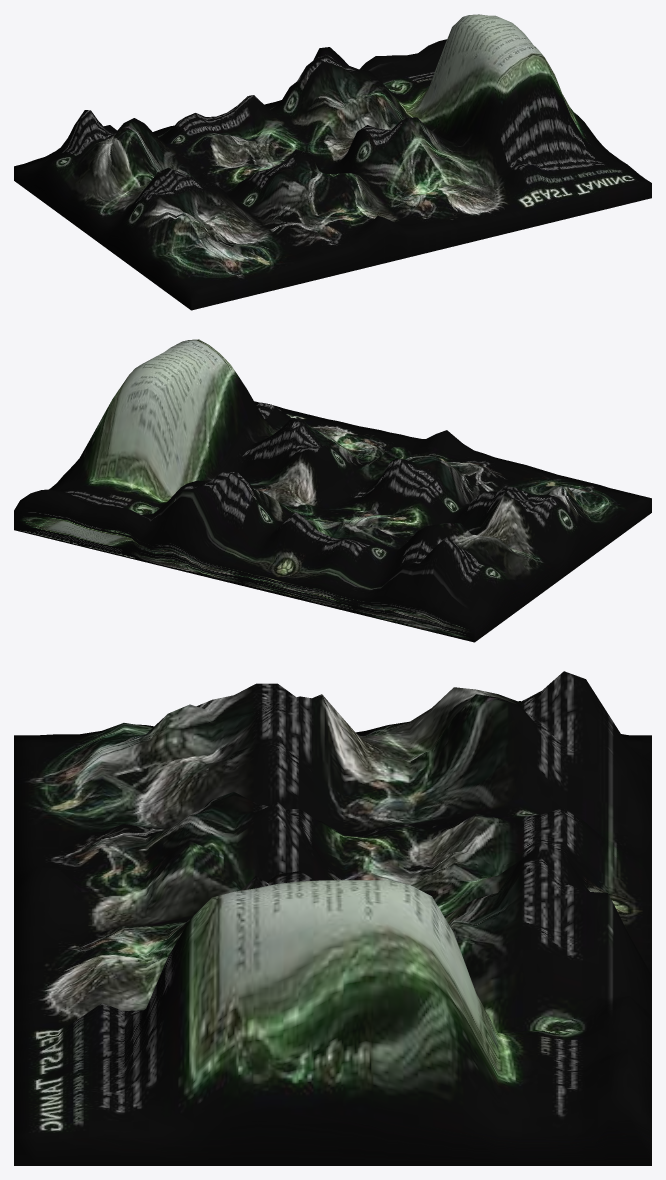
Rendered from CUL_50_Beast_Taming.glb.
3 renders of one model, top to bottom at view 1: azimuth 30°, elevation 25°; view 2: azimuth 150°, elevation 25°; view 3: azimuth 270°, elevation 25°, orthographic. The views are drawn at different scales.
Visible parts, largest first — view 1: CUL_50_Beast_Taming; view 2: CUL_50_Beast_Taming; view 3: CUL_50_Beast_Taming.
Boxes of the visible parts, x1,y1,x2,y2 form: CUL_50_Beast_Taming: (14,14,651,310); CUL_50_Beast_Taming: (14,339,651,642); CUL_50_Beast_Taming: (14,671,651,1165).
Bounding box in the file's own units: 2 × 0.51 × 1.33.
Materials: 1 (1 with a texture image).
